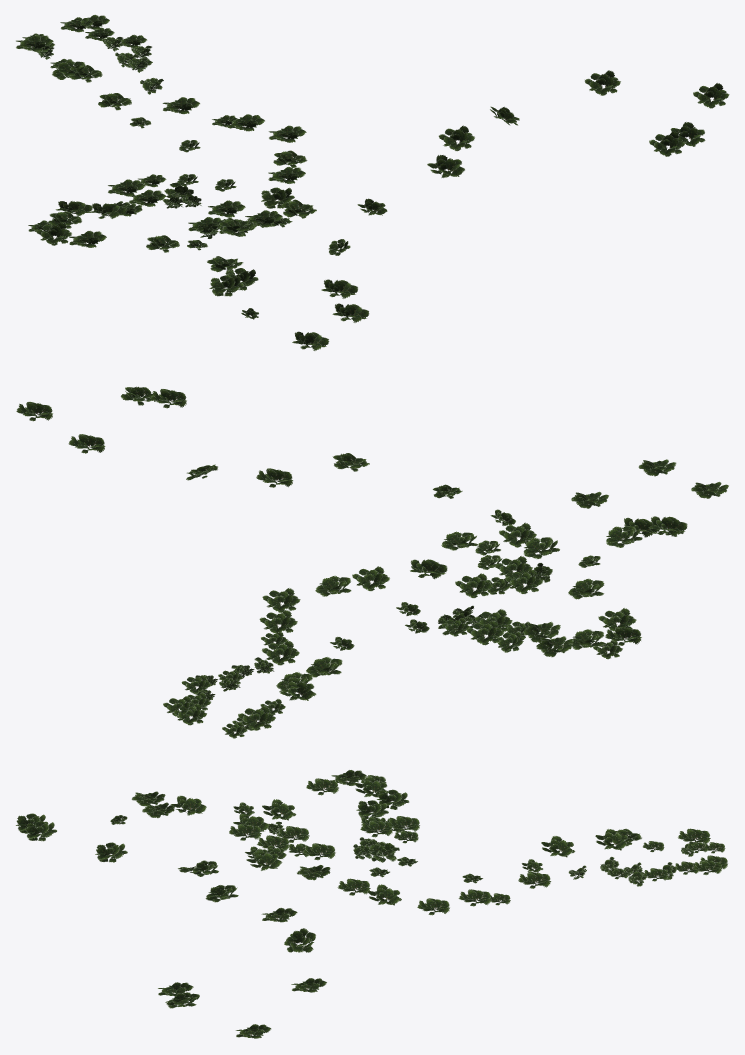
File: Leafs.FBX
3 renders of one model, top to bottom at view 1: azimuth 30°, elevation 25°; view 2: azimuth 150°, elevation 25°; view 3: azimuth 270°, elevation 25°, orthographic. The views are drawn at different scales.
Parts seen in each view (by area): view 1: Plane158; view 2: Plane158; view 3: Plane158.
Part boxes in pixels (bbox=[...]): Plane158: bbox=[16, 14, 729, 350]; Plane158: bbox=[16, 386, 728, 738]; Plane158: bbox=[15, 770, 727, 1038].
Size of the model in its own units: 941 by 90.04 by 964.
